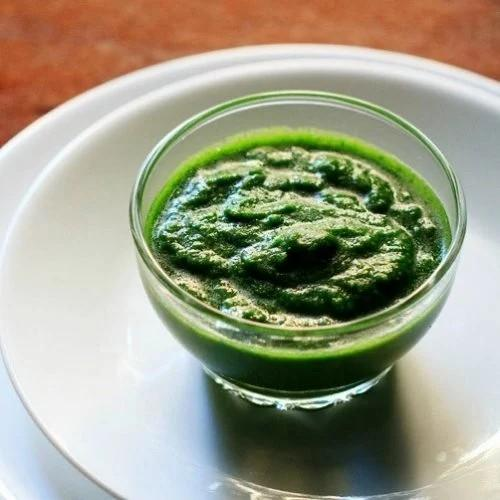GreenChutney: (144, 132, 452, 328)
